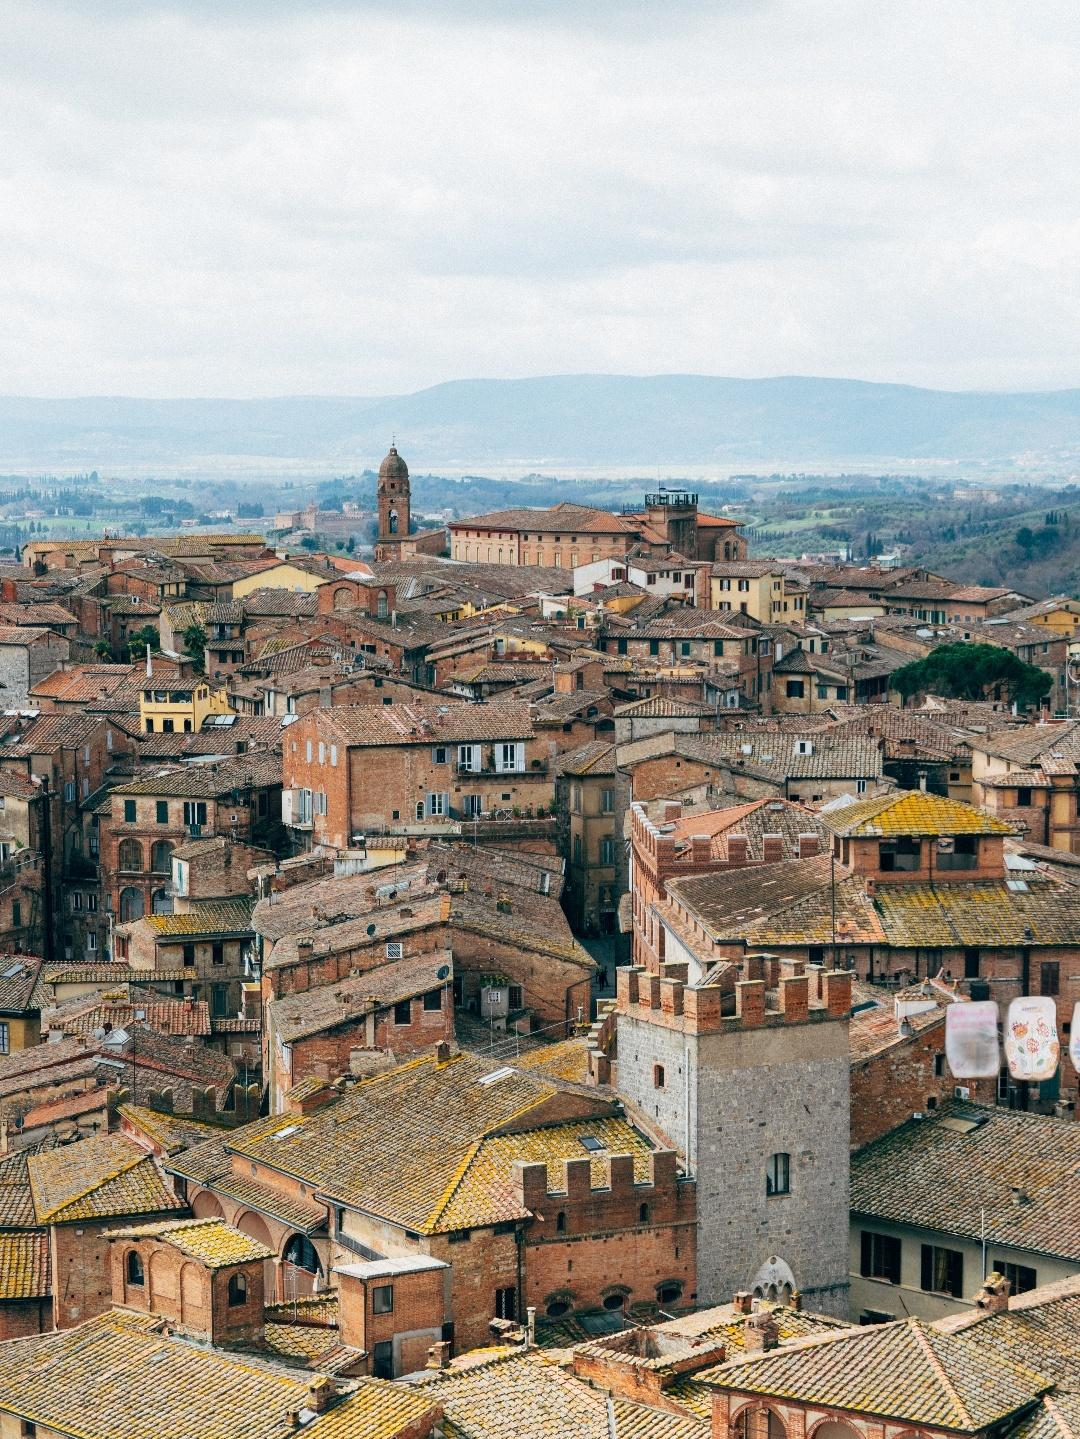battery: (452, 1436, 1080, 1439)
biological: (1070, 810, 1080, 1110)
trash: (931, 989, 1080, 1173)
